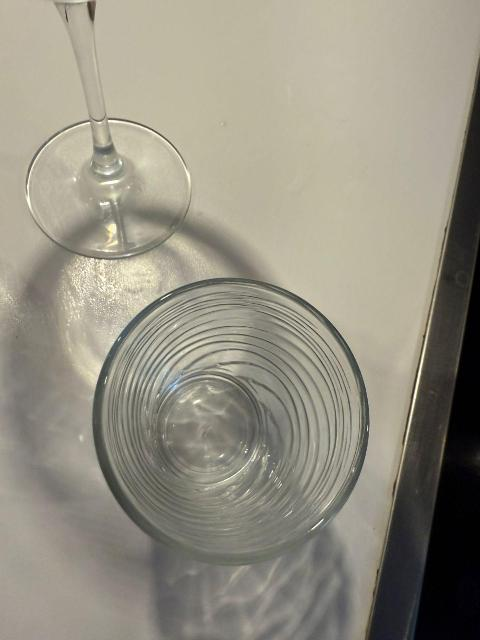Cam: (89, 273, 373, 573)
